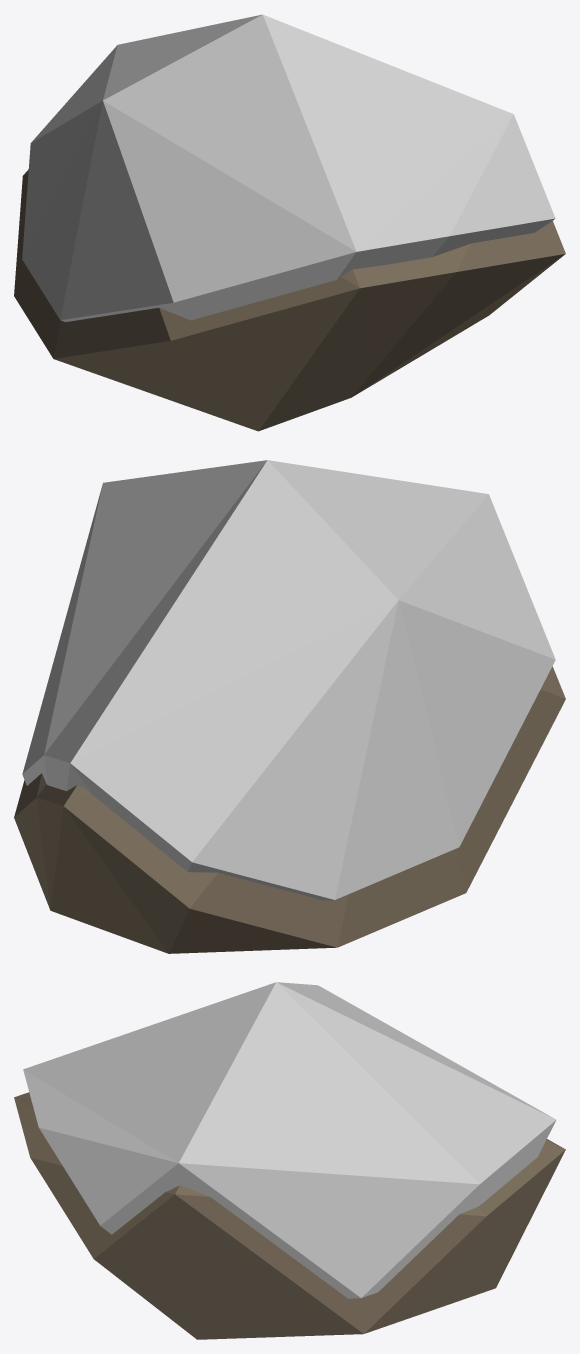
Rendered from Stone_2_snow_brown_vc.fbx.
3 renders of one model, top to bottom at view 1: azimuth 30°, elevation 25°; view 2: azimuth 150°, elevation 25°; view 3: azimuth 270°, elevation 25°, orthographic. The views are drawn at different scales.
Visible parts, largest first — view 1: Stone_2_snow_brown_vc; view 2: Stone_2_snow_brown_vc; view 3: Stone_2_snow_brown_vc.
Part boxes in pixels (box(x1,y1,x2,y2)): Stone_2_snow_brown_vc: box(14, 14, 565, 431); Stone_2_snow_brown_vc: box(14, 460, 565, 953); Stone_2_snow_brown_vc: box(14, 982, 565, 1339).
Size of the model in its own units: 27.27 by 20.73 by 37.23.
